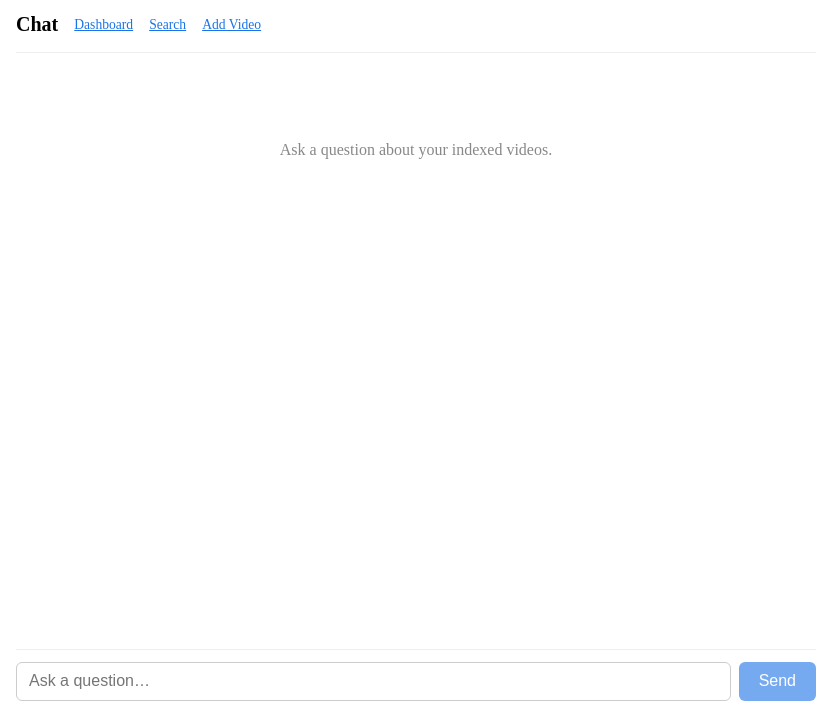
Test: ChatPage › shows Sources section and source card after done event with sources
In the field labelled "Ask a question…": (373, 681) x1=16 y1=662 x2=731 y2=701, type "test?"
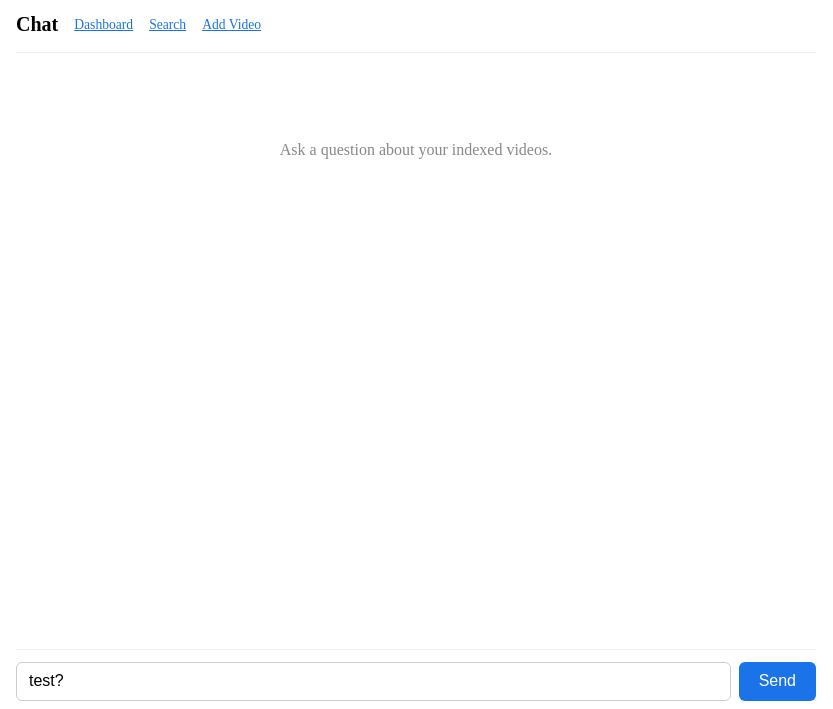
Click the button "Send": click(777, 681) x1=739 y1=662 x2=816 y2=701
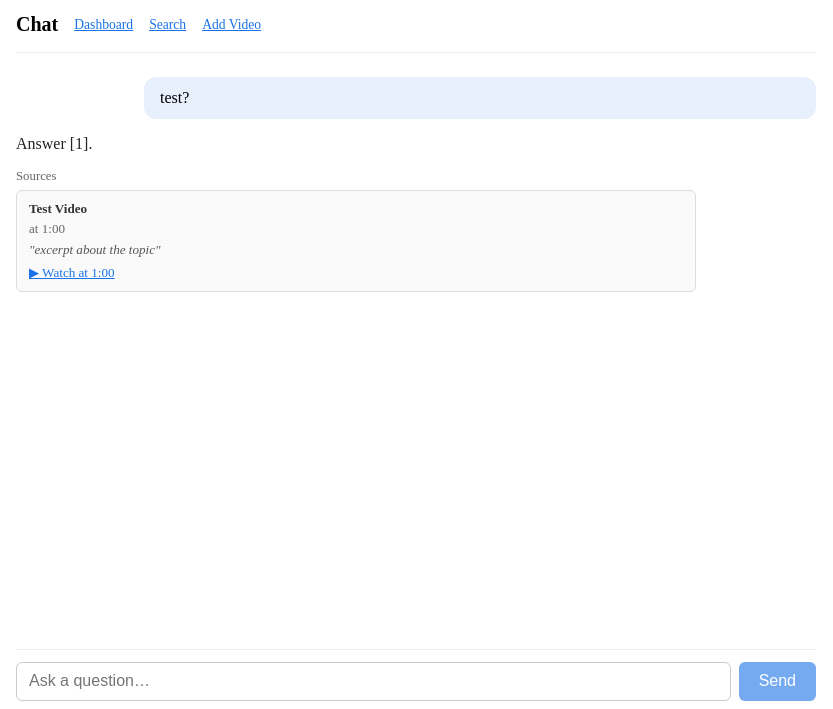
Expected: the text "Sources" is shown, x1=16 y1=169 x2=56 y2=183
Expected: the text "Test Video" is shown, x1=29 y1=201 x2=87 y2=216
